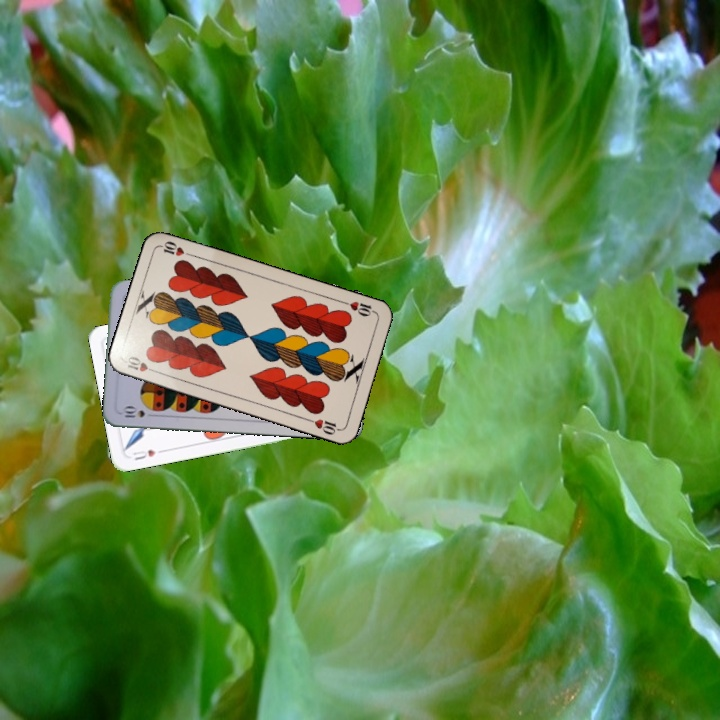H10: (121, 352, 161, 376), (338, 297, 378, 319)
HU: (128, 445, 159, 463)
S10: (117, 404, 158, 420)
